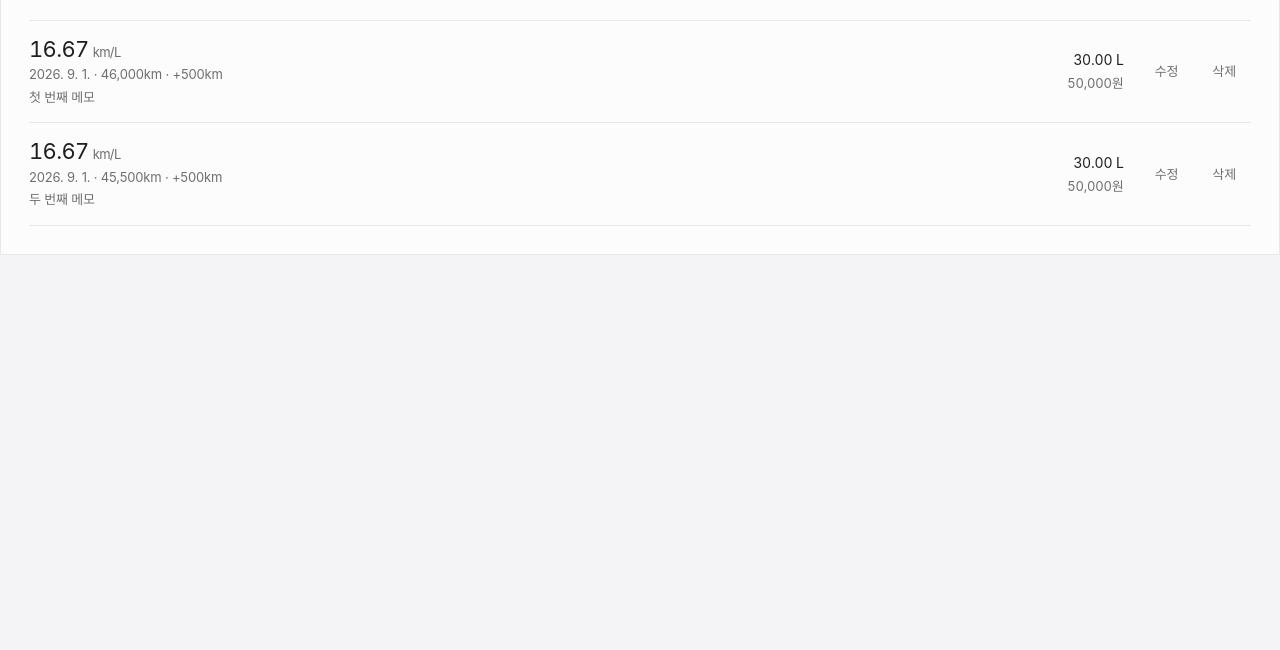
Test: FuelSection › 폼을 연 채 다른 행의 수정을 누르면 그 행의 값으로 바뀐다
Click the button "수정" in the row of "46,000km" at (1167, 72), box top-left (1140, 56), bottom-right (1193, 88)
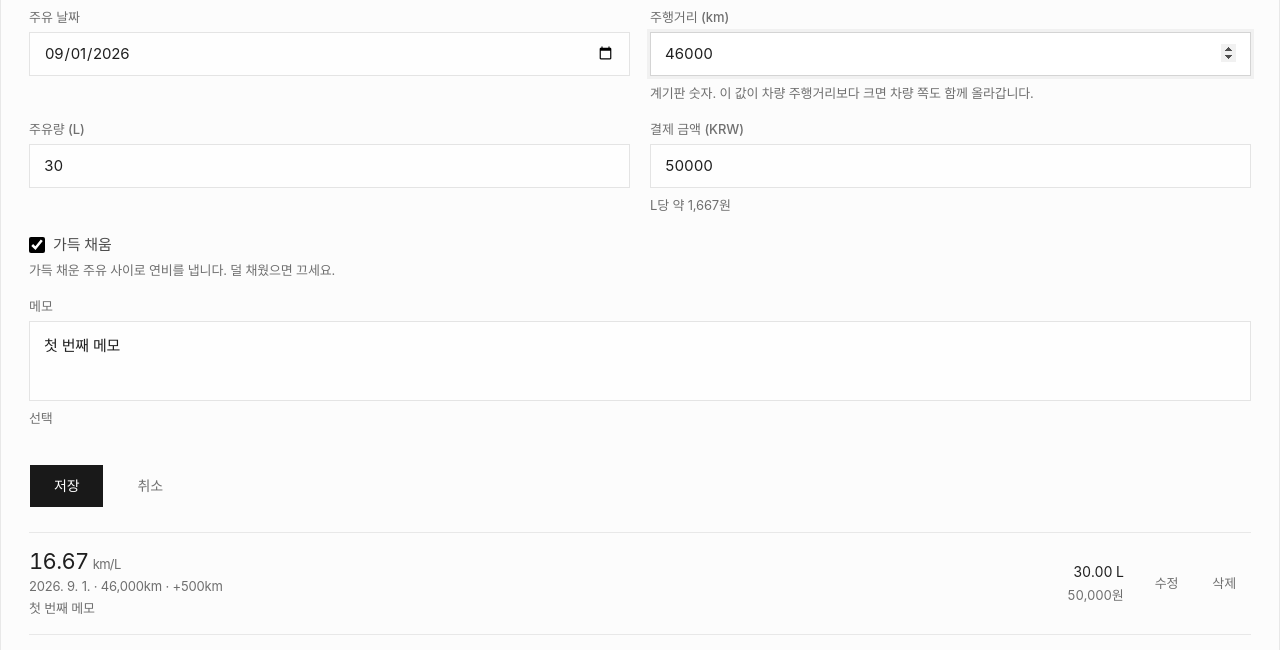
Expected: the text box labelled "메모" holds "첫 번째 메모"
Replace the text in the text box labelled "메모" with "고치던 중" at (640, 361), box top-left (29, 321), bottom-right (1251, 401)
(page scrolled)
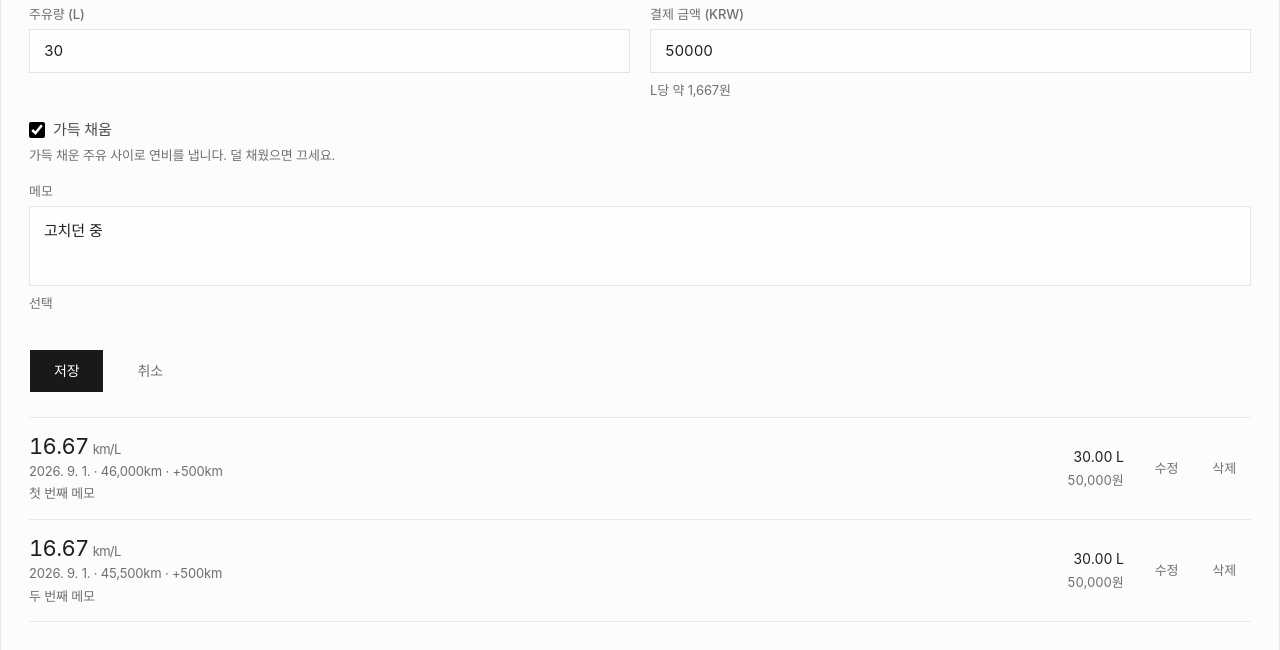
Click the button "수정" in the row of "45,500km" at (1167, 571), box top-left (1140, 555), bottom-right (1193, 587)
(page scrolled)
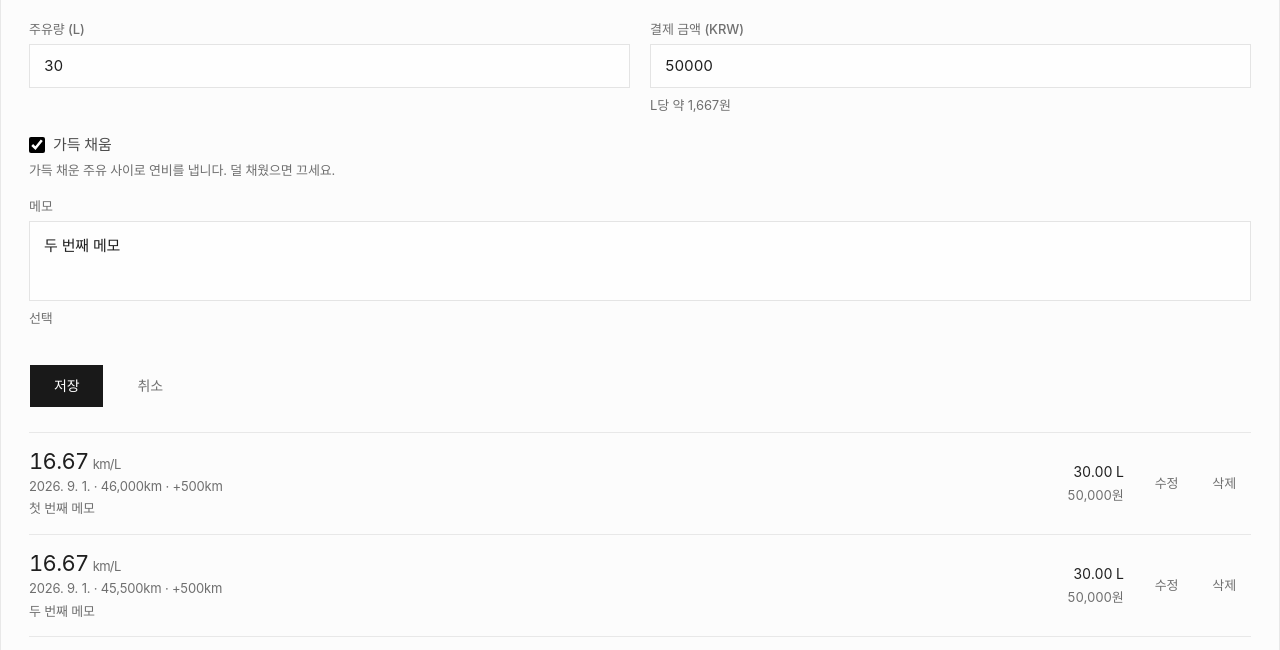
Expected: the text box labelled "메모" holds "두 번째 메모", top-left (29, 221), bottom-right (1251, 301)
